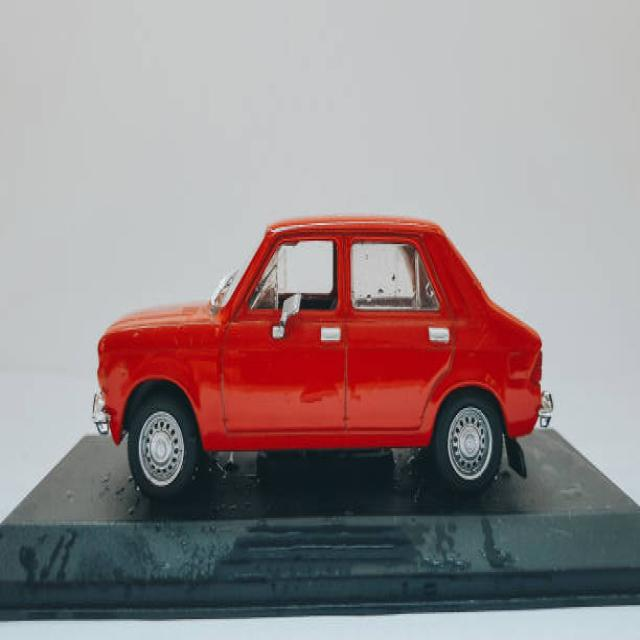Car: (92, 213, 552, 502)
